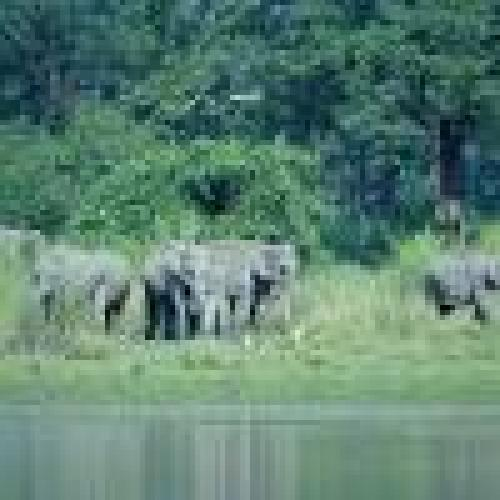asian_elephant-endangered: (34, 251, 134, 330), (135, 245, 210, 339)
